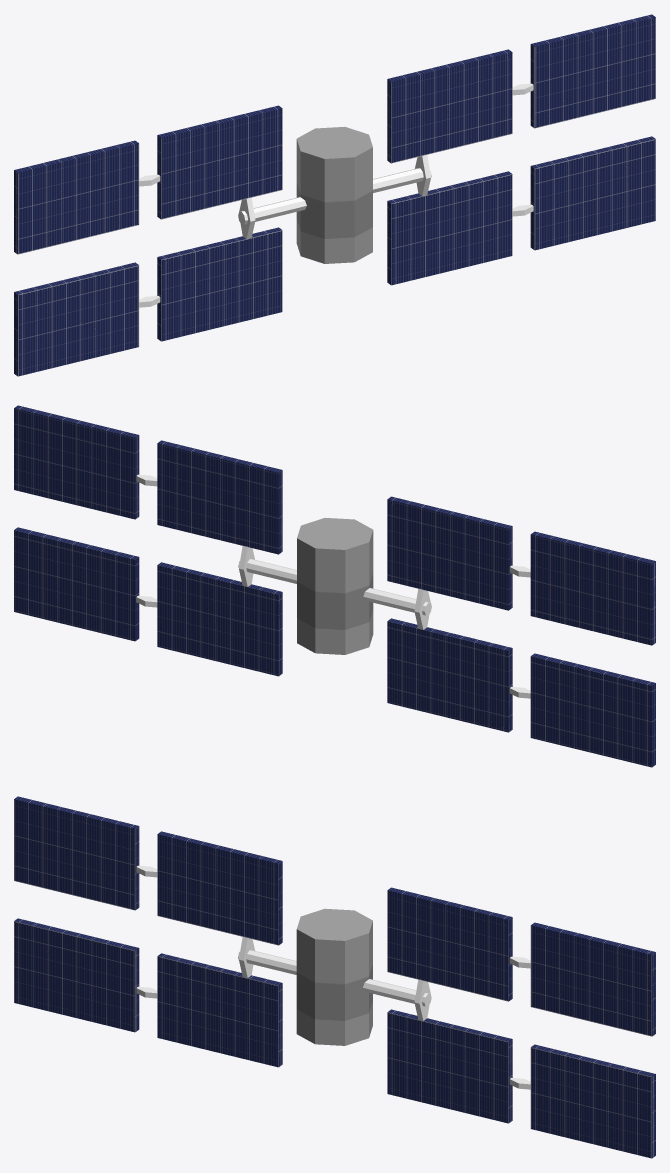
File: satellite.glb
The picture shows the model from 3 angles, top to bottom: view 1: azimuth 30°, elevation 25°; view 2: azimuth 150°, elevation 25°; view 3: azimuth 330°, elevation 25°; orthographic projection.
Parts seen in each view (by area): view 1: satelite; view 2: satelite; view 3: satelite.
Boxes of the visible parts, x1=… form: satelite: x1=14, y1=14, x2=655, y2=376; satelite: x1=14, y1=405, x2=655, y2=767; satelite: x1=14, y1=796, x2=655, y2=1158.
Bounding box in the file's own units: 27.34 × 8.34 × 2.93.
Materials: 1 (1 with a texture image).
